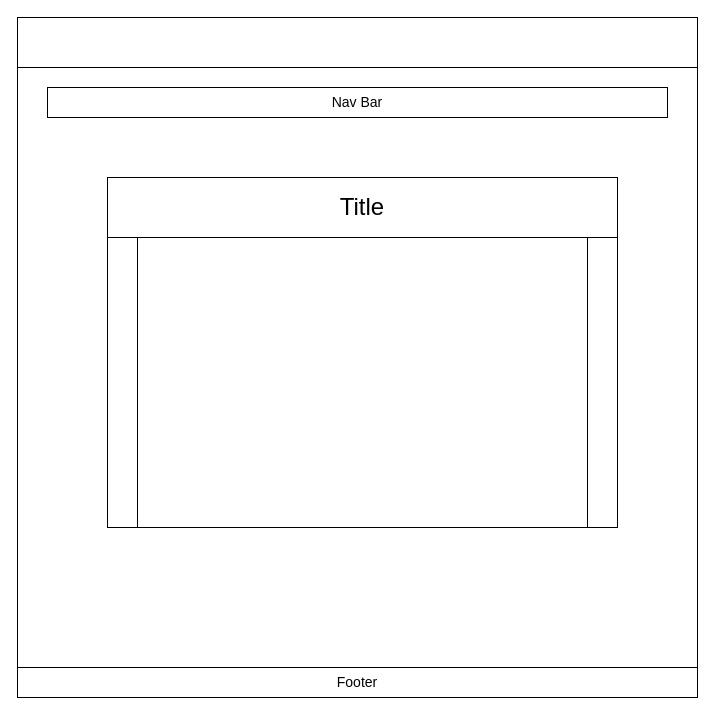
Image size: 715x715. Some labels were removed from this diagram. The shapes that lost their labels are listed below. From the top down, each one's centre as x and y in pixels, then its label:
At (357,42): "Ian's Recipes".
At (362,382): "Main Content: -- Home -- Cooking -- Baking -- About -- Contact".
